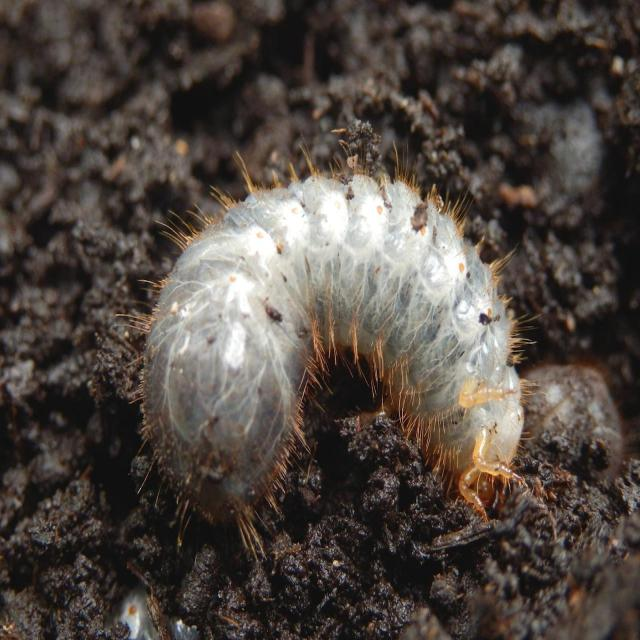Grub-Adult-: (132, 166, 530, 522)
